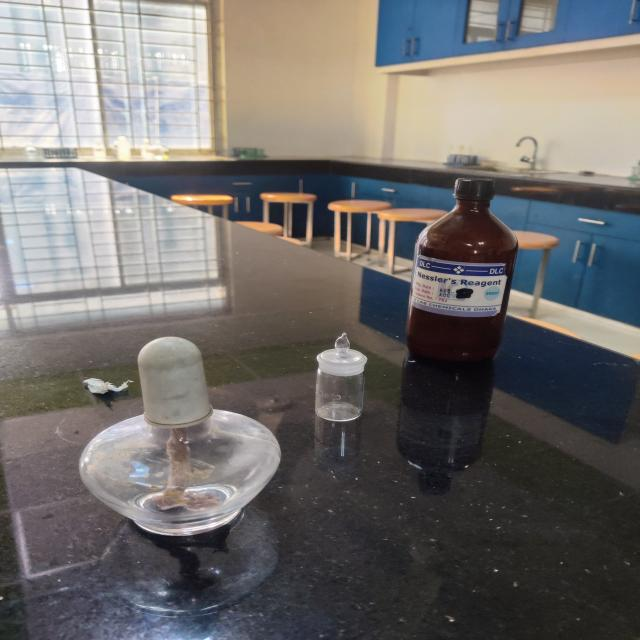Nessler_Reagent_Bottle: (393, 170, 539, 368)
Spirit_Lamp: (54, 314, 290, 560)
Weighing_Bottle: (308, 315, 380, 449)
